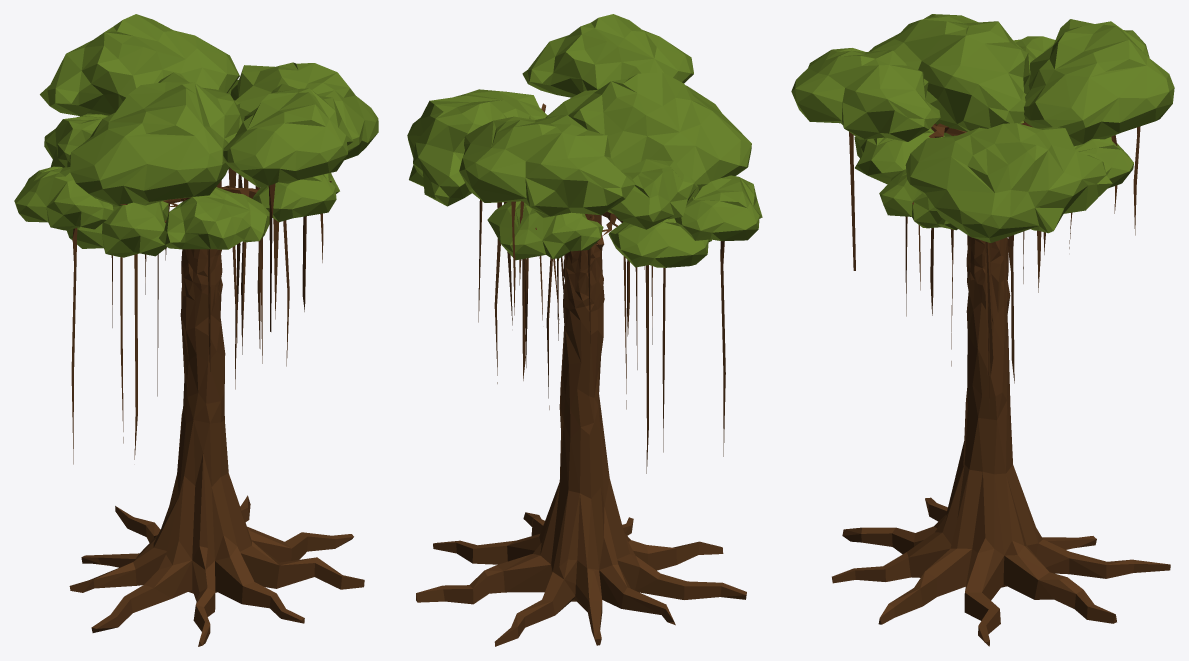
The model's file is Kapok Tree2.fbx.
The picture shows the model from 3 angles, left to right: view 1: azimuth 30°, elevation 25°; view 2: azimuth 150°, elevation 25°; view 3: azimuth 270°, elevation 25°; orthographic projection. The views are drawn at different scales.
Visible parts, largest first — view 1: Kapok Tree2; view 2: Kapok Tree2; view 3: Kapok Tree2.
Boxes of the visible parts, x1,y1,x2,y2 form: Kapok Tree2: [14, 14, 378, 646]; Kapok Tree2: [407, 14, 762, 646]; Kapok Tree2: [791, 14, 1174, 646].
Bounding box in the file's own units: 2358 × 3346 × 2129.
Materials: 1 (1 with a texture image).
